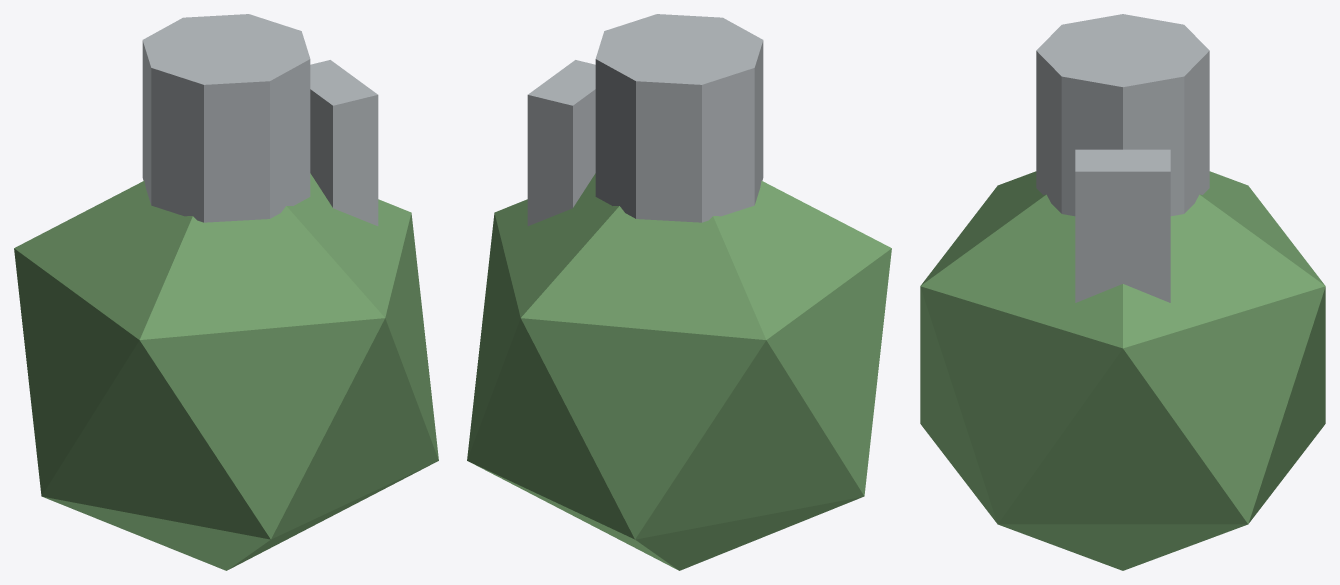
File: SM_FragGrenade.fbx
3 renders of one model, left to right at view 1: azimuth 30°, elevation 25°; view 2: azimuth 150°, elevation 25°; view 3: azimuth 270°, elevation 25°, orthographic.
Visible parts, largest first — view 1: SM_FragGrenade; view 2: SM_FragGrenade; view 3: SM_FragGrenade.
Part boxes in pixels (bbox=[...]): SM_FragGrenade: bbox=[14, 14, 438, 570]; SM_FragGrenade: bbox=[467, 14, 891, 570]; SM_FragGrenade: bbox=[920, 14, 1325, 570].
Size of the model in its own units: 984 by 936 by 1325.
